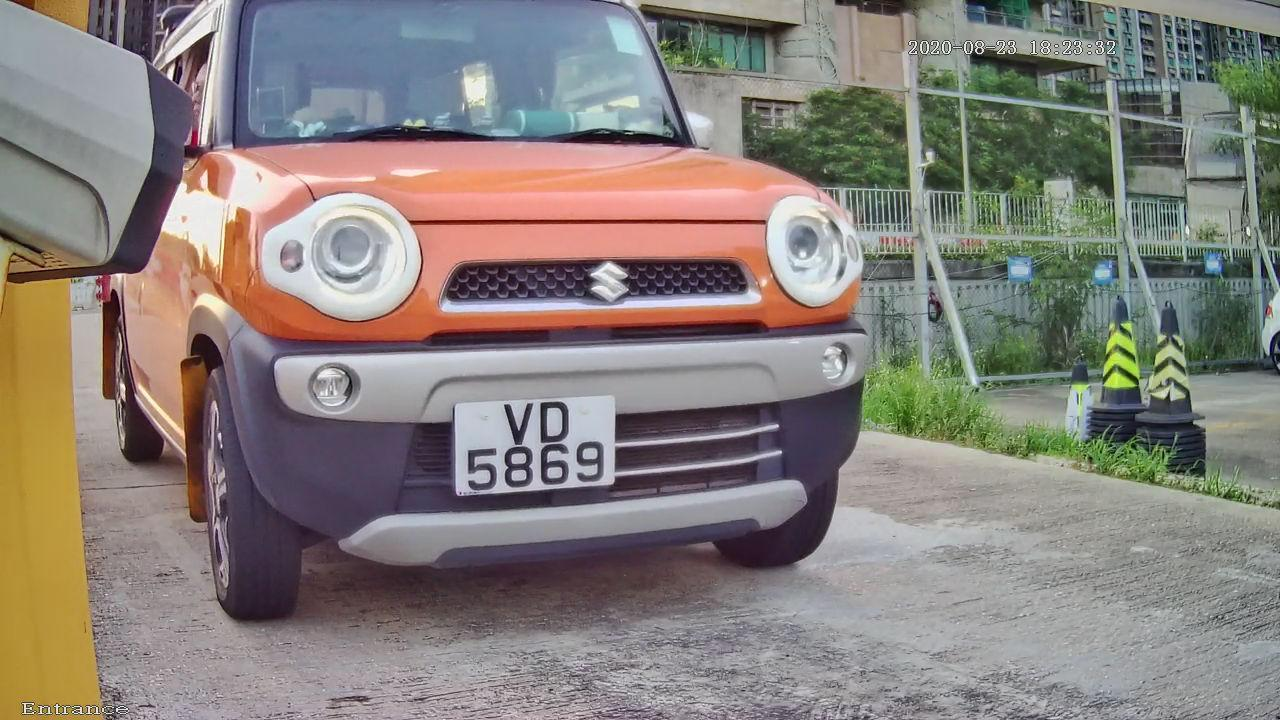Car: (58, 7, 972, 634)
License Plate: (411, 353, 674, 540)
